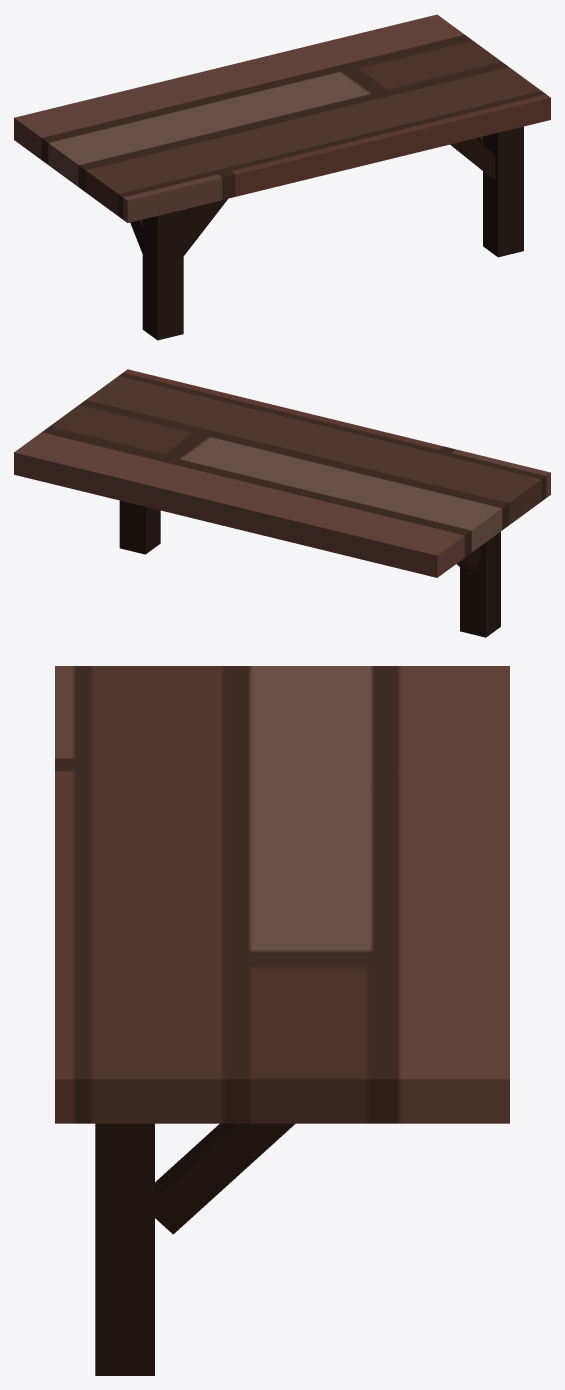
Rendered from Deck 2M.glb.
The picture shows the model from 3 angles, top to bottom: view 1: azimuth 30°, elevation 25°; view 2: azimuth 150°, elevation 25°; view 3: azimuth 270°, elevation 25°; orthographic projection. The views are drawn at different scales.
Visible parts, largest first — view 1: Deck 2M; view 2: Deck 2M; view 3: Deck 2M.
Part boxes in pixels (x1,y1,x2,y2): Deck 2M: [14, 14, 550, 340]; Deck 2M: [14, 369, 550, 637]; Deck 2M: [55, 666, 509, 1375].
Size of what is drawn, in the model's own units: 2 by 0.7053 by 0.9285.
2 materials, 2 textured.
